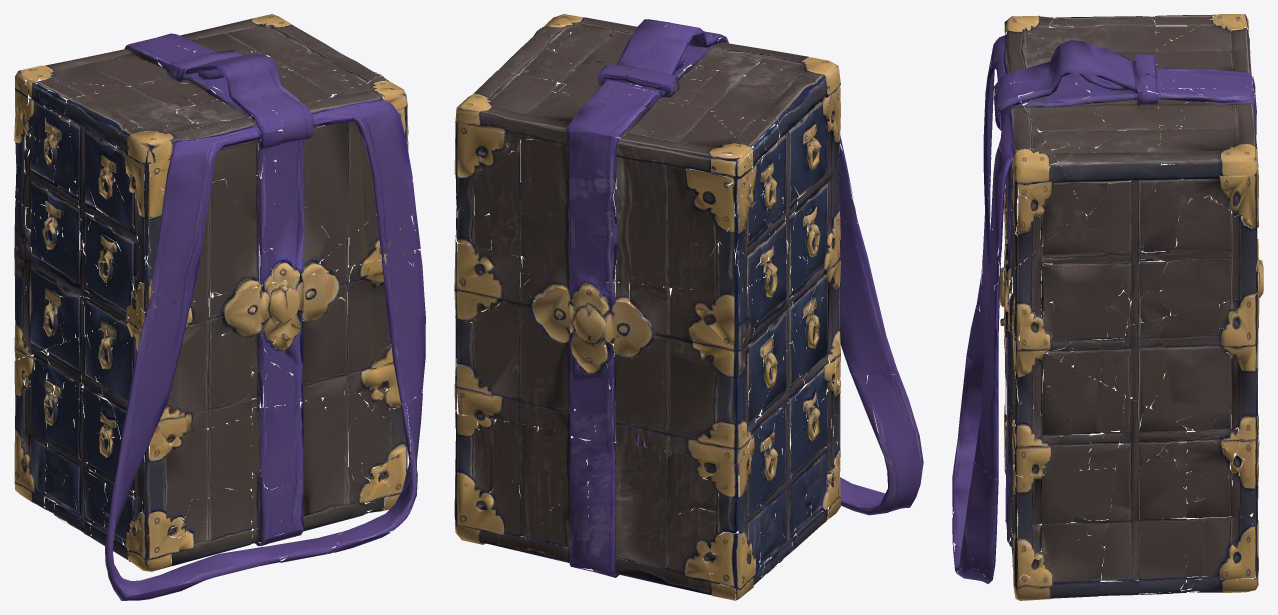
File: medicine_chest.glb
The picture shows the model from 3 angles, left to right: view 1: azimuth 30°, elevation 25°; view 2: azimuth 150°, elevation 25°; view 3: azimuth 270°, elevation 25°; orthographic projection. The views are drawn at different scales.
Visible parts, largest first — view 1: medicine_chest; view 2: medicine_chest; view 3: medicine_chest.
Part boxes in pixels (box(x1,y1,x2,y2)): medicine_chest: box(14, 14, 425, 600); medicine_chest: box(454, 14, 923, 600); medicine_chest: box(952, 14, 1263, 600).
Size of the model in its own units: 0.2876 by 0.3825 by 0.2217.
1 material, 1 textured.
